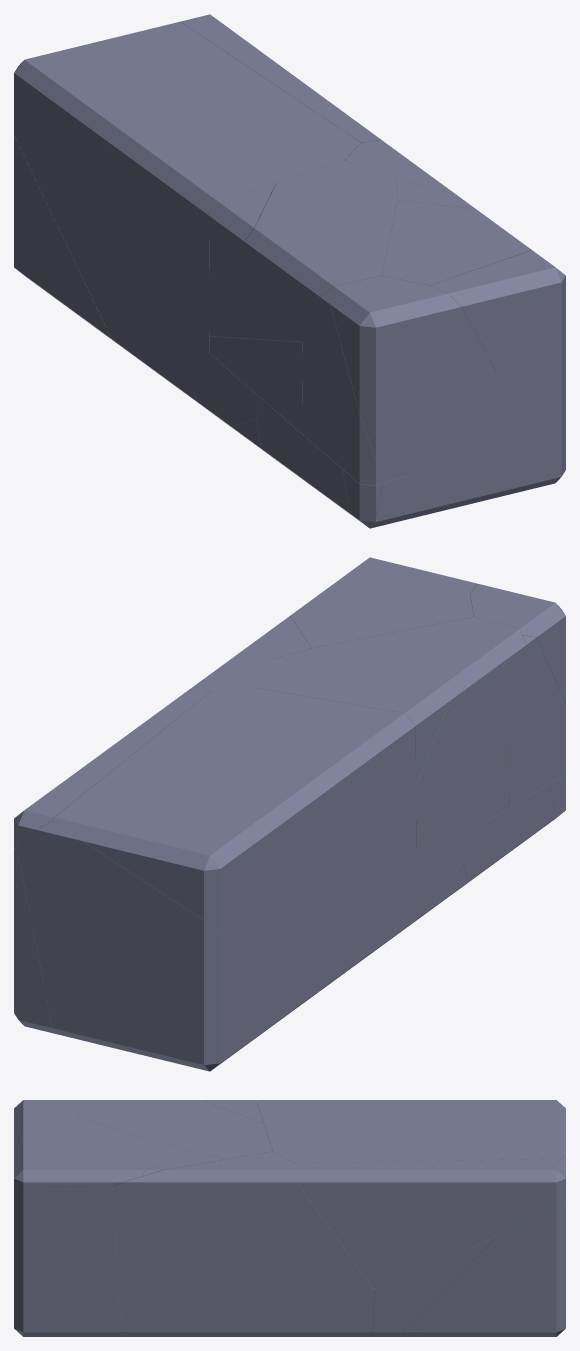
File: DestroyedBeveledAccentBrick.fbx
3 views of the same model, one above another, from view 1: azimuth 30°, elevation 25°; view 2: azimuth 150°, elevation 25°; view 3: azimuth 270°, elevation 25° (orthographic). The views are drawn at different scales.
Visible parts, largest first — view 1: BeveledAccentBrick.001_cell.004, BeveledAccentBrick.001_cell.006_cell.001, BeveledAccentBrick.001_cell.006_cell.002, BeveledAccentBrick.001_cell.002, BeveledAccentBrick.001_cell.006_cell, BeveledAccentBrick.001_cell.006_cell.007, BeveledAccentBrick.001_cell.006_cell.004, BeveledAccentBrick.001_cell.005, BeveledAccentBrick.001_cell.006_cell.005, BeveledAccentBrick.001_cell, BeveledAccentBrick.001_cell.007_cell.004, BeveledAccentBrick.001_cell.006_cell.003 (+5 smaller); view 2: BeveledAccentBrick.001_cell.004, BeveledAccentBrick.001_cell.005, BeveledAccentBrick.001_cell.006_cell.001, BeveledAccentBrick.001_cell.006_cell, BeveledAccentBrick.001_cell.006_cell.007, BeveledAccentBrick.001_cell.006_cell.005, BeveledAccentBrick.001_cell, BeveledAccentBrick.001_cell.006_cell.002, BeveledAccentBrick.001_cell.007_cell.004, BeveledAccentBrick.001_cell.001, BeveledAccentBrick.001_cell.006_cell.003, BeveledAccentBrick.001_cell.007_cell.006 (+3 smaller); view 3: BeveledAccentBrick.001_cell.003, BeveledAccentBrick.001_cell, BeveledAccentBrick.001_cell.004, BeveledAccentBrick.001_cell.002, BeveledAccentBrick.001_cell.001, BeveledAccentBrick.001_cell.006_cell.001, BeveledAccentBrick.001_cell.006_cell, BeveledAccentBrick.001_cell.005, BeveledAccentBrick.001_cell.006_cell.004, BeveledAccentBrick.001_cell.006_cell.002, BeveledAccentBrick.001_cell.006_cell.006, BeveledAccentBrick.001_cell.006_cell.003.
Part boxes in pixels (bbox=[...]): BeveledAccentBrick.001_cell.004: bbox=[14, 21, 360, 396]; BeveledAccentBrick.001_cell.006_cell.001: bbox=[209, 161, 397, 341]; BeveledAccentBrick.001_cell.006_cell.002: bbox=[329, 276, 496, 482]; BeveledAccentBrick.001_cell.002: bbox=[406, 281, 565, 508]; BeveledAccentBrick.001_cell.006_cell: bbox=[382, 200, 531, 285]; BeveledAccentBrick.001_cell.006_cell.007: bbox=[302, 291, 385, 485]; BeveledAccentBrick.001_cell.006_cell.004: bbox=[430, 250, 565, 371]; BeveledAccentBrick.001_cell.005: bbox=[14, 135, 125, 349]; BeveledAccentBrick.001_cell.006_cell.005: bbox=[210, 336, 302, 434]; BeveledAccentBrick.001_cell: bbox=[180, 14, 380, 142]; BeveledAccentBrick.001_cell.007_cell.004: bbox=[256, 399, 358, 520]; BeveledAccentBrick.001_cell.006_cell.003: bbox=[209, 183, 275, 275]; BeveledAccentBrick.001_cell.004: bbox=[52, 688, 416, 991]; BeveledAccentBrick.001_cell.005: bbox=[17, 821, 318, 1071]; BeveledAccentBrick.001_cell.006_cell.001: bbox=[258, 617, 525, 844]; BeveledAccentBrick.001_cell.006_cell: bbox=[290, 574, 473, 648]; BeveledAccentBrick.001_cell.006_cell.007: bbox=[508, 635, 565, 807]; BeveledAccentBrick.001_cell.006_cell.005: bbox=[416, 716, 508, 862]; BeveledAccentBrick.001_cell: bbox=[14, 685, 211, 848]; BeveledAccentBrick.001_cell.006_cell.002: bbox=[470, 584, 565, 703]; BeveledAccentBrick.001_cell.007_cell.004: bbox=[463, 784, 555, 885]; BeveledAccentBrick.001_cell.001: bbox=[14, 847, 57, 1034]; BeveledAccentBrick.001_cell.006_cell.003: bbox=[338, 687, 450, 785]; BeveledAccentBrick.001_cell.007_cell.006: bbox=[397, 832, 468, 928]; BeveledAccentBrick.001_cell.003: bbox=[113, 1151, 374, 1336]; BeveledAccentBrick.001_cell: bbox=[292, 1159, 565, 1290]; BeveledAccentBrick.001_cell.004: bbox=[256, 1100, 565, 1163]; BeveledAccentBrick.001_cell.002: bbox=[14, 1186, 128, 1336]; BeveledAccentBrick.001_cell.001: bbox=[402, 1197, 565, 1336]; BeveledAccentBrick.001_cell.006_cell.001: bbox=[77, 1100, 272, 1159]; BeveledAccentBrick.001_cell.006_cell: bbox=[43, 1118, 189, 1186]; BeveledAccentBrick.001_cell.005: bbox=[369, 1154, 565, 1336]; BeveledAccentBrick.001_cell.006_cell.004: bbox=[14, 1127, 71, 1189]; BeveledAccentBrick.001_cell.006_cell.002: bbox=[14, 1100, 78, 1140]; BeveledAccentBrick.001_cell.006_cell.006: bbox=[141, 1151, 224, 1176]; BeveledAccentBrick.001_cell.006_cell.003: bbox=[202, 1100, 263, 1123].
Bounding box in the file's own units: 200 × 200 × 600.
